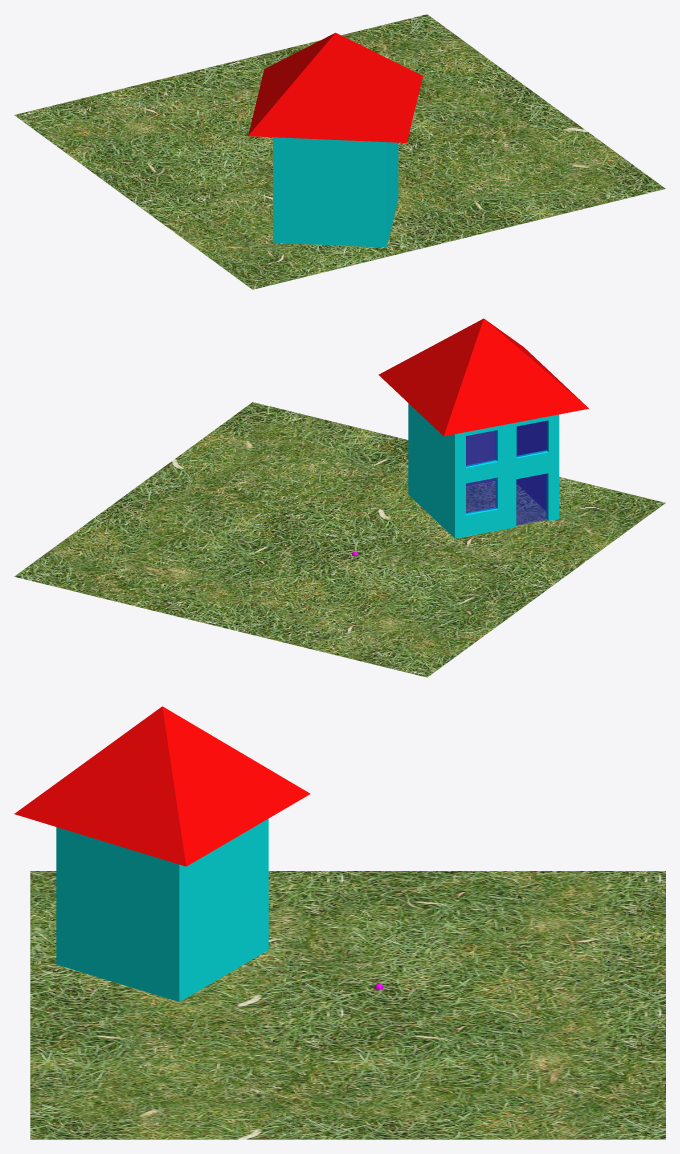
The model's file is house.obj.
3 views of the same model, one above another, from view 1: azimuth 30°, elevation 25°; view 2: azimuth 150°, elevation 25°; view 3: azimuth 270°, elevation 25° (orthographic). The views are drawn at different scales.
Visible parts, largest first — view 1: pPlane1, pPyramid1 group1, group1 pCube10; view 2: pPlane1, group1 pCube10, pPyramid1 group1, group1 pCube7; view 3: pPlane1, group1 pCube10, pPyramid1 group1.
Part boxes in pixels (x1,y1,x2,y2): pPlane1: (14, 14, 665, 289); pPyramid1 group1: (248, 32, 422, 142); group1 pCube10: (273, 137, 398, 247); pPlane1: (14, 402, 665, 677); group1 pCube10: (408, 403, 559, 538); pPyramid1 group1: (378, 318, 588, 436); group1 pCube7: (466, 420, 547, 525); pPlane1: (30, 871, 665, 1139); group1 pCube10: (56, 818, 268, 1001); pPyramid1 group1: (14, 706, 310, 866).
Bounding box in the file's own units: 24.17 × 10.7 × 24.8.
6 materials, 1 textured.
